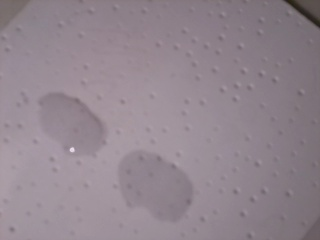Water_detected: (127, 153, 190, 213), (44, 98, 101, 148)
